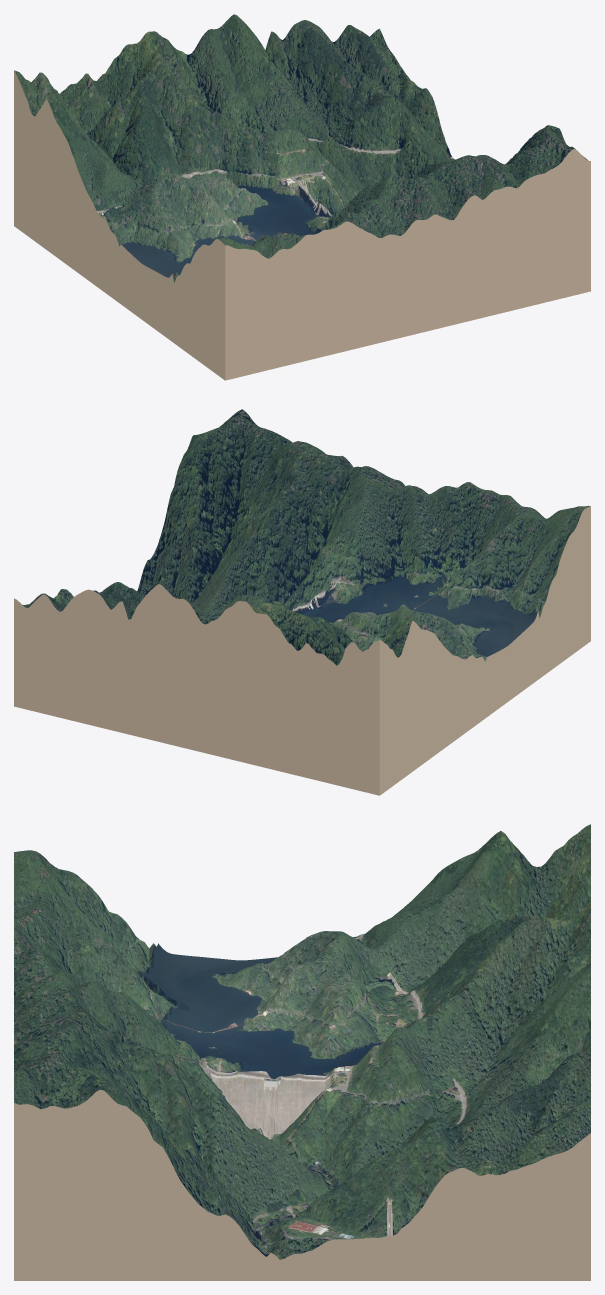
File: facility-014.glb
The picture shows the model from 3 angles, top to bottom: view 1: azimuth 30°, elevation 25°; view 2: azimuth 150°, elevation 25°; view 3: azimuth 270°, elevation 25°; orthographic projection. The views are drawn at different scales.
Size of the model in its own units: 0.6 by 0.2533 by 0.6.
17 materials, 16 textured.
